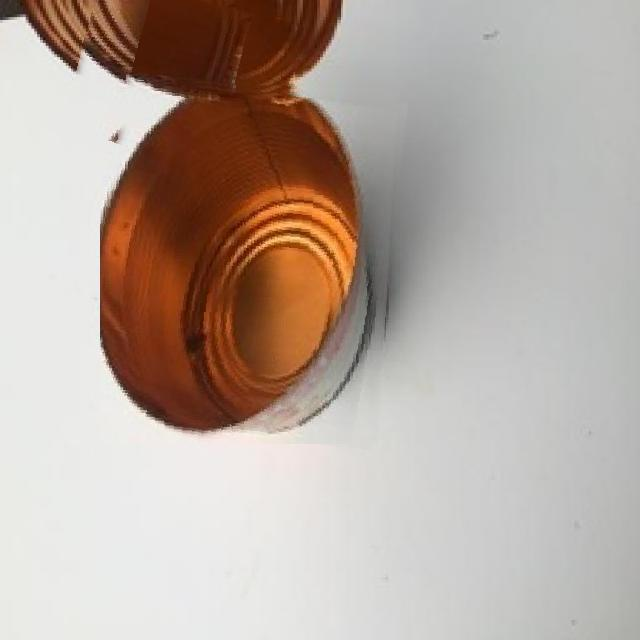recyclable: (100, 80, 399, 444), (71, 0, 296, 167)
